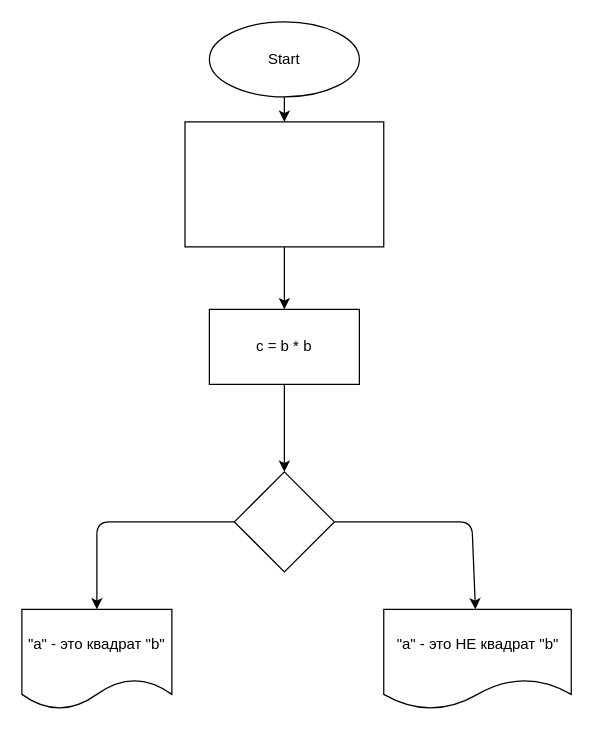
Image size: 594x731. Some labels were removed from this diagram. Here are the shapes that lost their labels. From the top down, the box of each, then its label:
(184, 121, 384, 247): int a; int b; int c;
(233, 471, 334, 572): a == c
